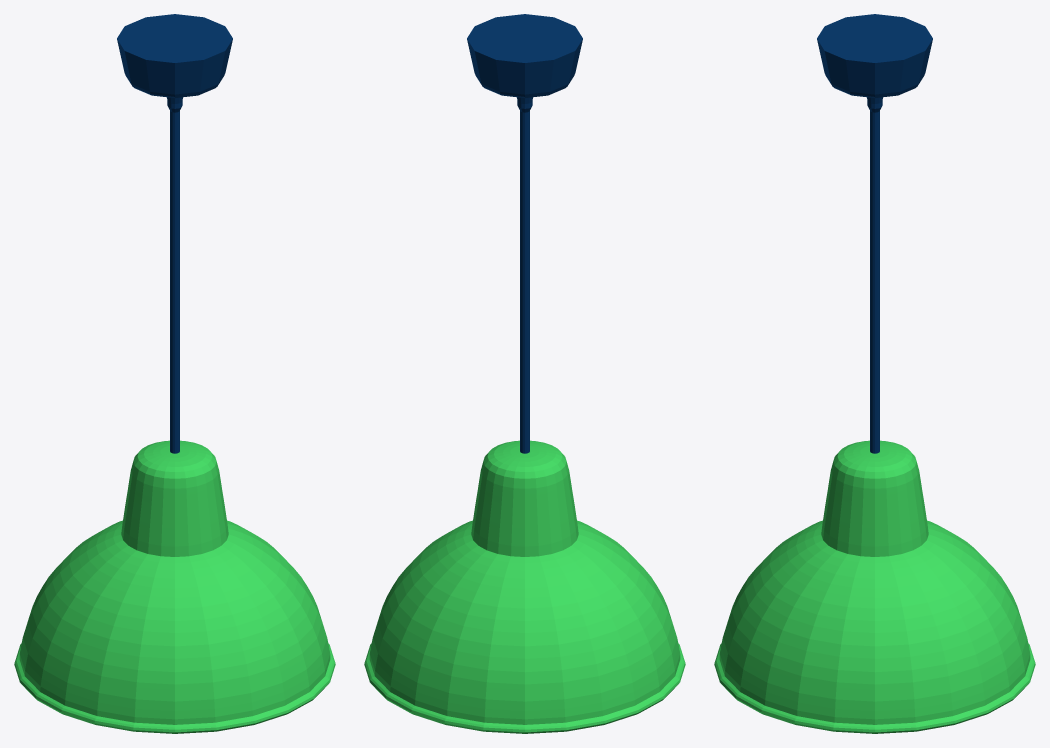
File: RoofLamp.fbx
3 renders of one model, left to right at view 1: azimuth 30°, elevation 25°; view 2: azimuth 150°, elevation 25°; view 3: azimuth 270°, elevation 25°, orthographic.
Parts seen in each view (by area): view 1: Lamp; view 2: Lamp; view 3: Lamp.
Boxes of the visible parts, x1,y1,x2,y2 form: Lamp: (14, 14, 335, 733); Lamp: (364, 14, 685, 733); Lamp: (714, 14, 1035, 733).
Size of the model in its own units: 58.13 by 134 by 58.13.
